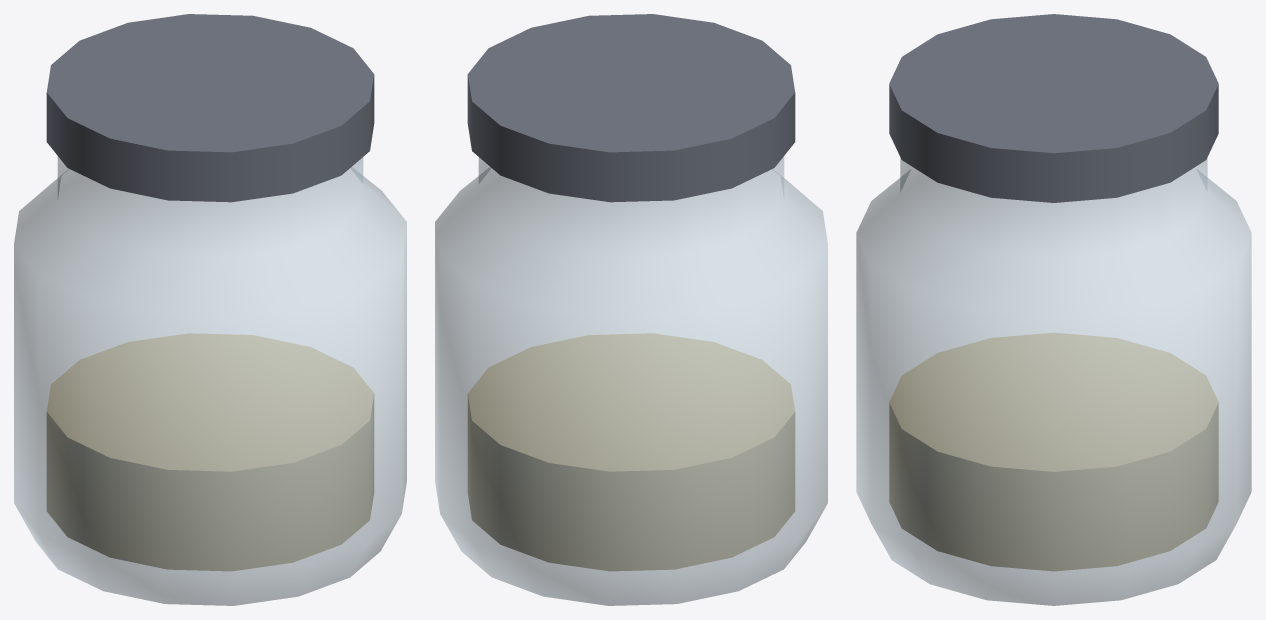
Rendered from jar_glass.glb.
3 renders of one model, left to right at view 1: azimuth 30°, elevation 25°; view 2: azimuth 150°, elevation 25°; view 3: azimuth 270°, elevation 25°, orthographic.
Visible parts, largest first — view 1: root; view 2: root; view 3: root.
Part boxes in pixels (left/top/right/bottom): root: left=14, top=14, right=406, bottom=605; root: left=435, top=14, right=827, bottom=605; root: left=856, top=14, right=1251, bottom=605.
Size of the model in its own units: 0.36 by 0.45 by 0.36.
